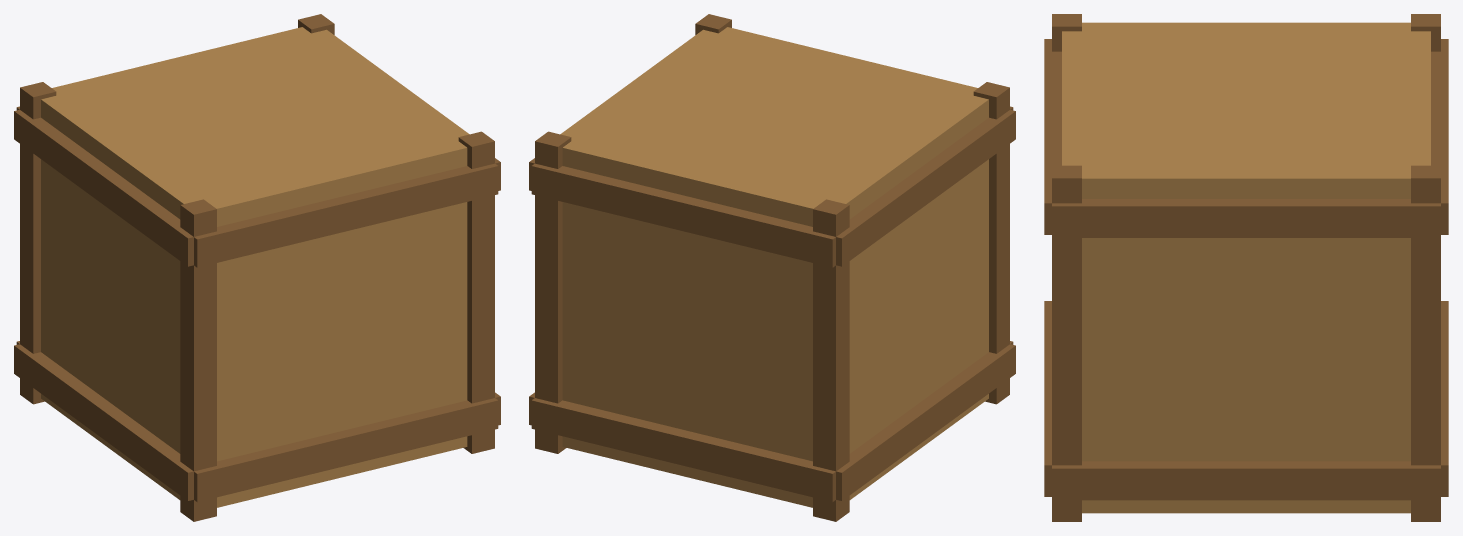
File: xy_town_crate.glb
3 views of the same model, side by side, from view 1: azimuth 30°, elevation 25°; view 2: azimuth 150°, elevation 25°; view 3: azimuth 270°, elevation 25° (orthographic). The views are drawn at different scales.
Visible parts, largest first — view 1: xy_town_crate; view 2: xy_town_crate; view 3: xy_town_crate.
Boxes of the visible parts, <box> form: xy_town_crate: <box>14,14,500,521</box>; xy_town_crate: <box>529,14,1015,521</box>; xy_town_crate: <box>1044,14,1448,521</box>.
Size of the model in its own units: 0.81 by 0.76 by 0.81.
